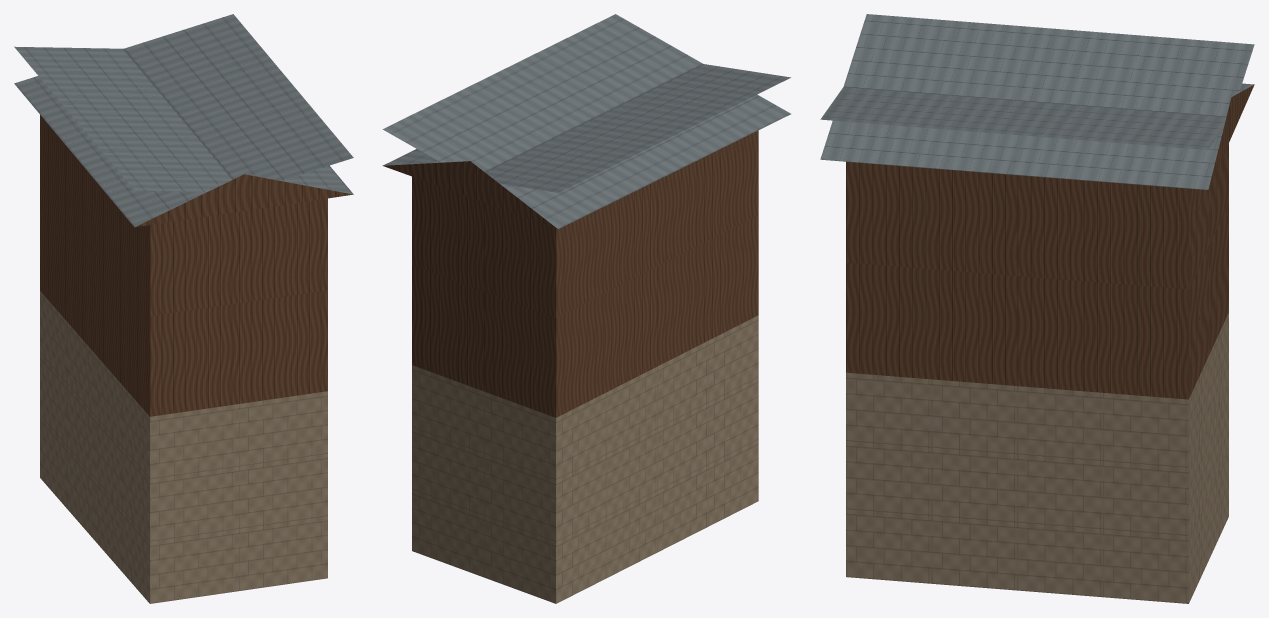
The model's file is bld_c3_5_500.gltf.
3 views of the same model, side by side, from view 1: azimuth 30°, elevation 25°; view 2: azimuth 150°, elevation 25°; view 3: azimuth 270°, elevation 25° (orthographic). The views are drawn at different scales.
Visible parts, largest first — view 1: bld_c3_5_500; view 2: bld_c3_5_500; view 3: bld_c3_5_500.
Part boxes in pixels (x1,y1,x2,y2): bld_c3_5_500: (14, 14, 353, 603); bld_c3_5_500: (382, 14, 790, 603); bld_c3_5_500: (820, 14, 1254, 603).
Bounding box in the file's own units: 7.28 × 11.6 × 9.82.
Materials: 4 (4 with a texture image).
